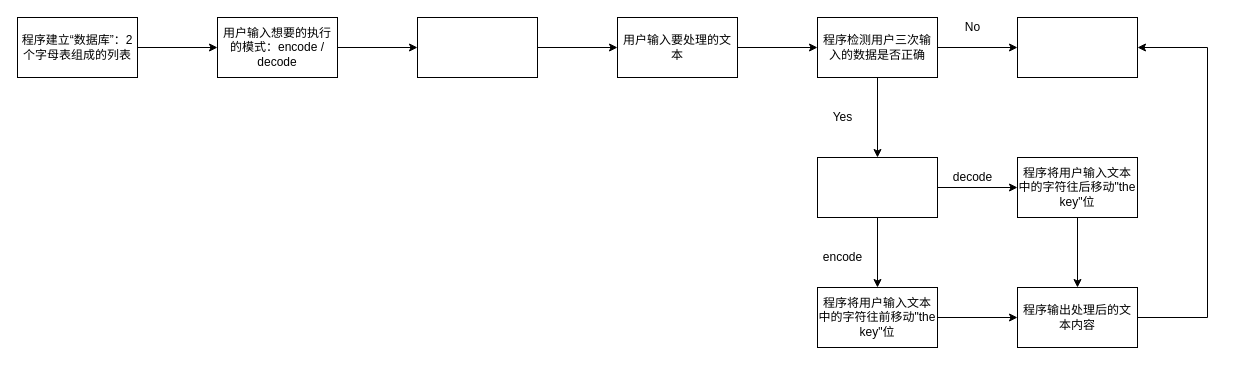
This 1233x365 diagram has some shape labels left out. The shapes that lost their labels are listed below. From the top down, each one's centre as x and y in pixels, then its label:
At pixel 477 47: "用户输入“the key”值".
At pixel 1077 47: "程序结束运行".
At pixel 877 187: "程序根据用户输入处理模式和“the key”值处理用户输入的文本".
